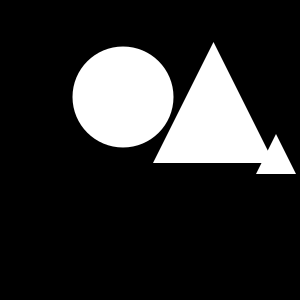rectangle: (72, 46, 174, 148)
triangle: (153, 42, 274, 163), (256, 134, 296, 174)
